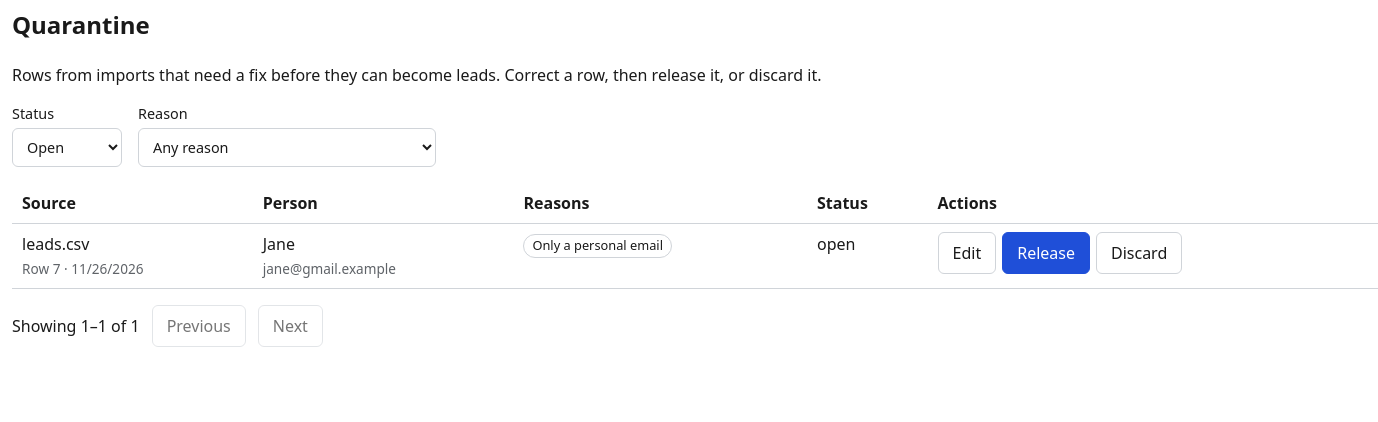
it: release › released: false lists what is still wrong and is not an error
The width and height of the screenshot is (1378, 422).
Expected: the text "leads.csv" is shown, [22,233,89,255]
Click the button with aria-label "Release row 7 of leads.csv".
click(1046, 253)  # box [1002,232,1090,274]
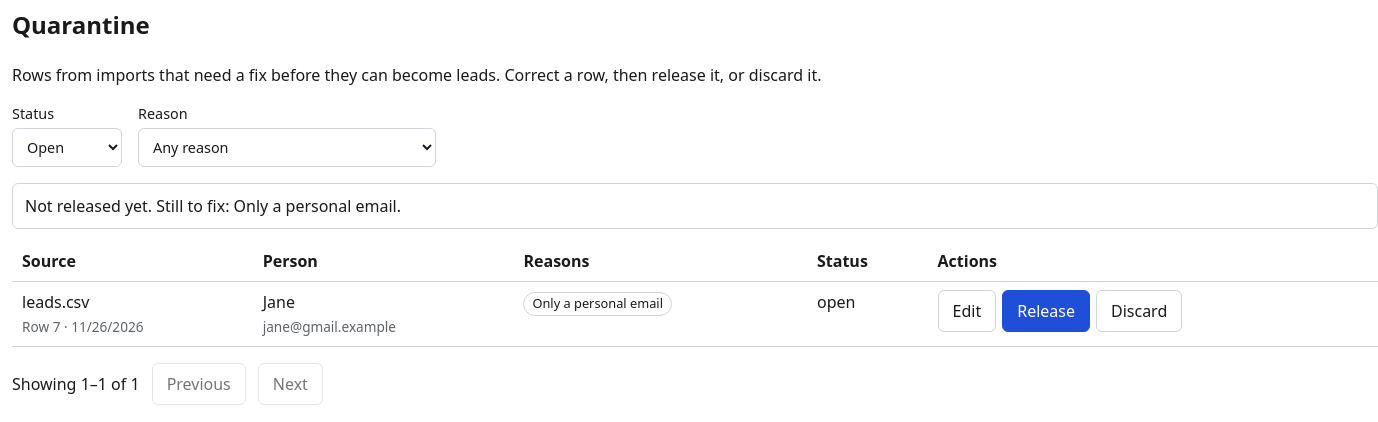
Now the message reads "Not released yet. Still to fix: Only a personal email.", box [25,195,401,217]
